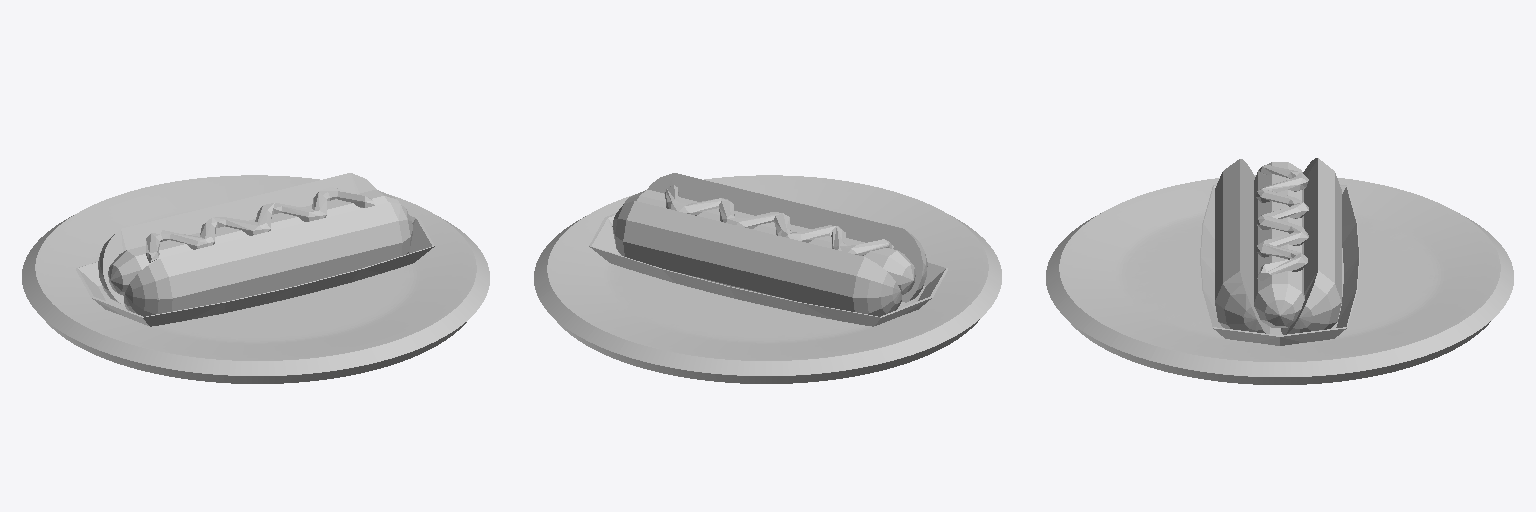
File: Hot dog bread.obj
The picture shows the model from 3 angles: view 1: azimuth 30°, elevation 25°; view 2: azimuth 150°, elevation 25°; view 3: azimuth 270°, elevation 25°; orthographic projection.
Parts seen in each view (by area): view 1: Circle_Circle.001, Hotdog_Sphere; view 2: Circle_Circle.001, Hotdog_Sphere; view 3: Circle_Circle.001, Hotdog_Sphere.
Boxes of the visible parts, x1=… form: Circle_Circle.001: x1=22, y1=175, x2=489, y2=383; Hotdog_Sphere: x1=76, y1=173, x2=434, y2=326; Circle_Circle.001: x1=534, y1=175, x2=1001, y2=383; Hotdog_Sphere: x1=589, y1=173, x2=947, y2=326; Circle_Circle.001: x1=1046, y1=175, x2=1513, y2=384; Hotdog_Sphere: x1=1200, y1=158, x2=1359, y2=345.
Bounding box in the file's own units: 4.9 × 0.9581 × 4.9.